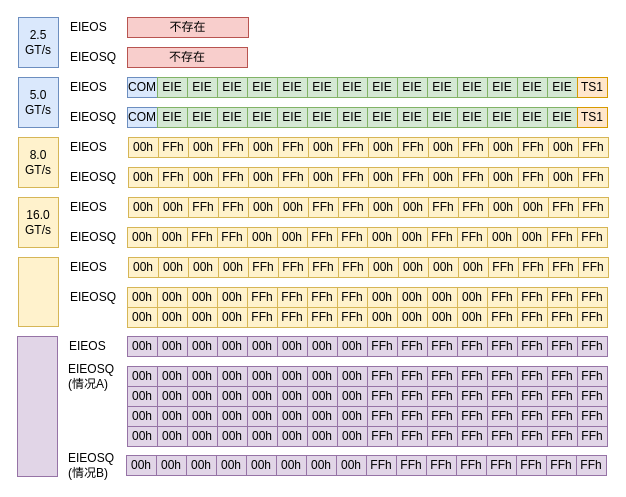
Some shapes in this 626 by 497 pixel diagram are drawn without their labels. The centre of each missing label's shape, as x and y in pixels:
"32.0 GT/s" belongs at point 38,291.
"64.0 GT/s" belongs at point 37,406.
